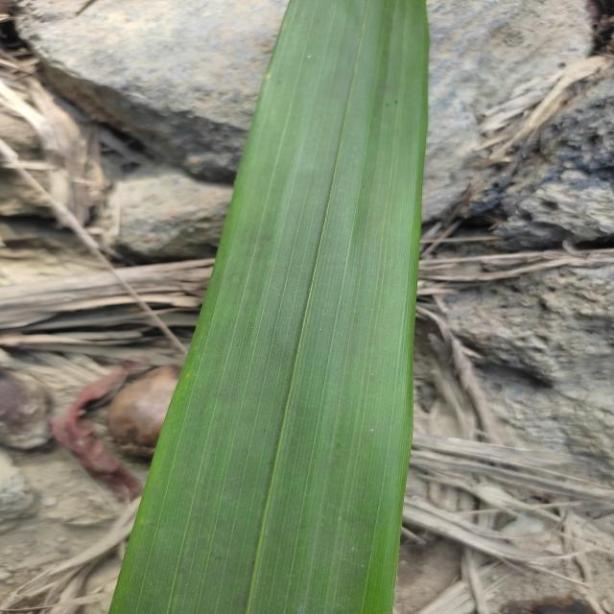Healthy: (108, 3, 433, 614)
